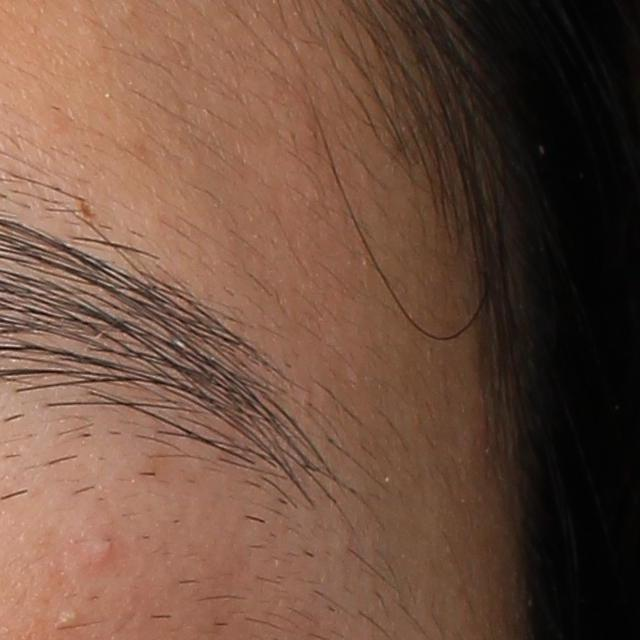nevus: (79, 198, 100, 220)
papule: (84, 534, 117, 571)
